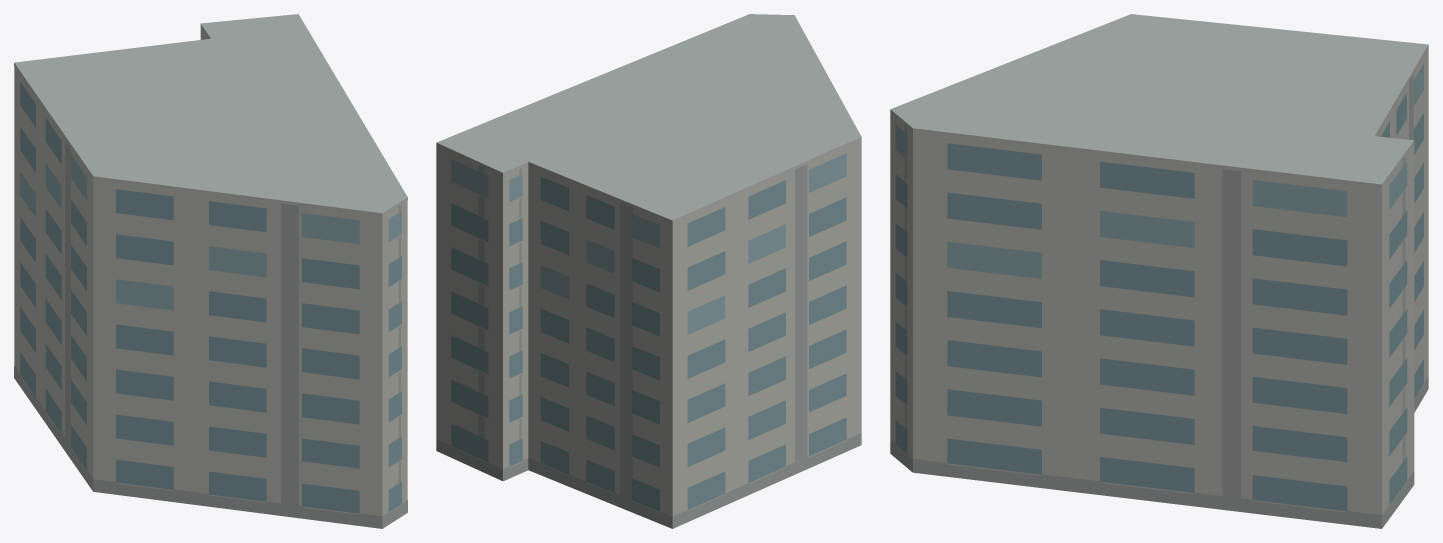
File: survey-upis-32871411.glb
3 renders of one model, left to right at view 1: azimuth 30°, elevation 25°; view 2: azimuth 150°, elevation 25°; view 3: azimuth 270°, elevation 25°, orthographic. The views are drawn at different scales.
Parts seen in each view (by area): view 1: survey-upis-32871411.tmp; view 2: survey-upis-32871411.tmp; view 3: survey-upis-32871411.tmp.
Boxes of the visible parts, box(x1,y1,x2,y2) form: survey-upis-32871411.tmp: box(14, 14, 407, 528); survey-upis-32871411.tmp: box(436, 14, 861, 528); survey-upis-32871411.tmp: box(890, 14, 1428, 528).
Size of the model in its own units: 24.32 by 22.9 by 32.44.
